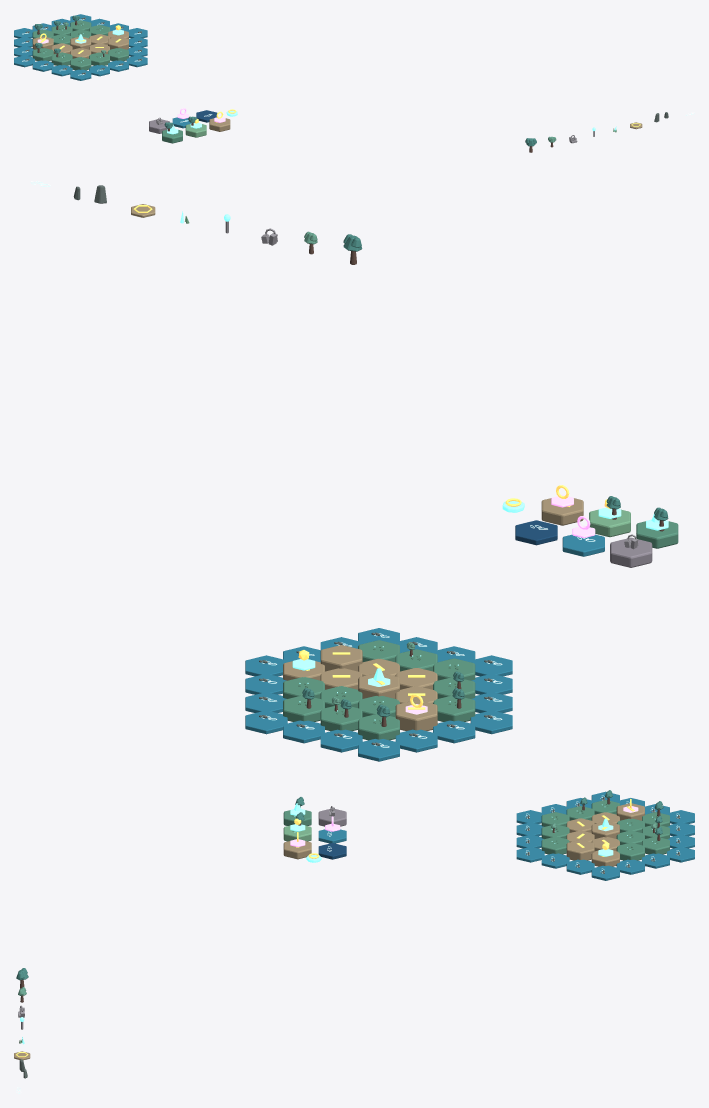
Rendered from CH01_MAP_KIT_R5.glb.
The picture shows the model from 3 angles, top to bottom: view 1: azimuth 30°, elevation 25°; view 2: azimuth 150°, elevation 25°; view 3: azimuth 270°, elevation 25°; orthographic projection. The views are drawn at different scales.
Parts seen in each view (by area): view 1: MAP_0_-2_FOREST, MAP_-1_-1_FOREST, MAP_-2_0_FOREST, MAP_1_-2_FOREST, MAP_2_-2_FOREST, MAP_2_-1_ROAD, HEX_ROAD_02; view 2: HEX_RUIN_03, MAP_-2_1_ROAD, MAP_2_-1_ROAD, MAP_-2_2_FOREST, MAP_0_2_FOREST, HEX_DEEP_05, MAP_-2_0_FOREST, MAP_-1_2_FOREST, HEX_ROAD_02; view 3: MAP_2_-1_ROAD.
Boxes of the visible parts, left/top/right/bottom form: MAP_0_-2_FOREST: left=70, top=57, right=91, bottom=70; MAP_-1_-1_FOREST: left=51, top=52, right=72, bottom=65; MAP_-2_0_FOREST: left=32, top=48, right=53, bottom=61; MAP_1_-2_FOREST: left=89, top=52, right=109, bottom=65; MAP_2_-2_FOREST: left=108, top=48, right=128, bottom=61; MAP_2_-1_ROAD: left=108, top=36, right=128, bottom=49; HEX_ROAD_02: left=209, top=118, right=230, bottom=131; HEX_RUIN_03: left=610, top=537, right=652, bottom=567; MAP_-2_1_ROAD: left=395, top=700, right=437, bottom=730; MAP_2_-1_ROAD: left=320, top=645, right=362, bottom=671; MAP_-2_2_FOREST: left=358, top=714, right=399, bottom=740; MAP_0_2_FOREST: left=283, top=695, right=324, bottom=721; HEX_DEEP_05: left=515, top=520, right=557, bottom=545; MAP_-2_0_FOREST: left=433, top=695, right=475, bottom=721; MAP_-1_2_FOREST: left=320, top=704, right=362, bottom=731; HEX_ROAD_02: left=541, top=498, right=583, bottom=525; MAP_2_-1_ROAD: left=566, top=839, right=594, bottom=860.
Bounding box in the file's own units: 43.8 × 1.52 × 42.
